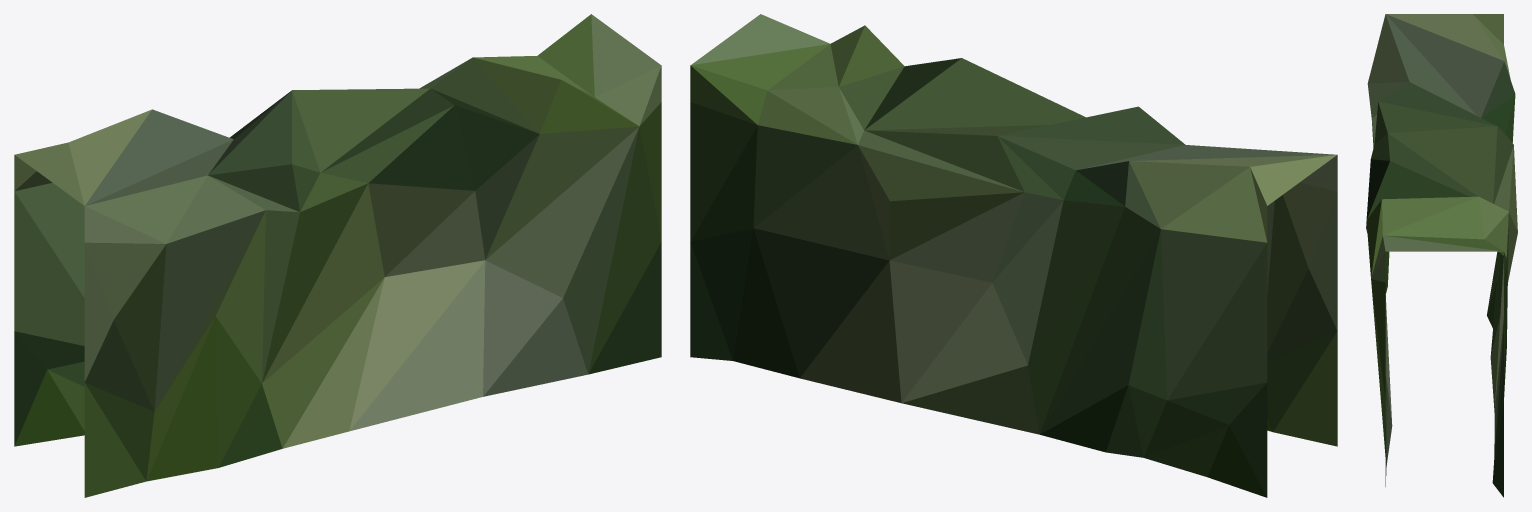
File: Wall_Foliage-4m.fbx
The picture shows the model from 3 angles, left to right: view 1: azimuth 30°, elevation 25°; view 2: azimuth 150°, elevation 25°; view 3: azimuth 270°, elevation 25°; orthographic projection. The views are drawn at different scales.
Parts seen in each view (by area): view 1: Wall_Foliage-4m; view 2: Wall_Foliage-4m; view 3: Wall_Foliage-4m.
Boxes of the visible parts, bbox=[...] form: Wall_Foliage-4m: bbox=[14, 14, 661, 497]; Wall_Foliage-4m: bbox=[690, 14, 1337, 497]; Wall_Foliage-4m: bbox=[1366, 14, 1517, 497].
Size of the model in its own units: 400 by 205 by 108.
